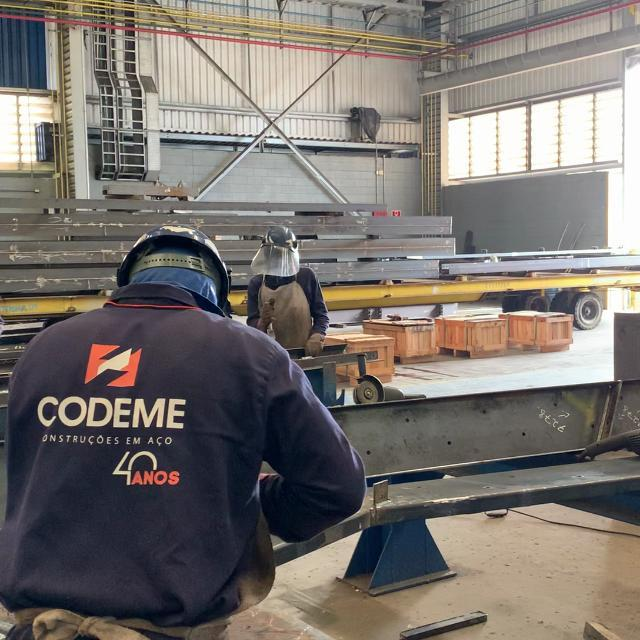eye-glass: (250, 246, 302, 275)
face-shield: (303, 332, 324, 356)
glove: (115, 221, 232, 304), (262, 223, 299, 248)
mask: (1, 225, 366, 630), (244, 226, 330, 356)
